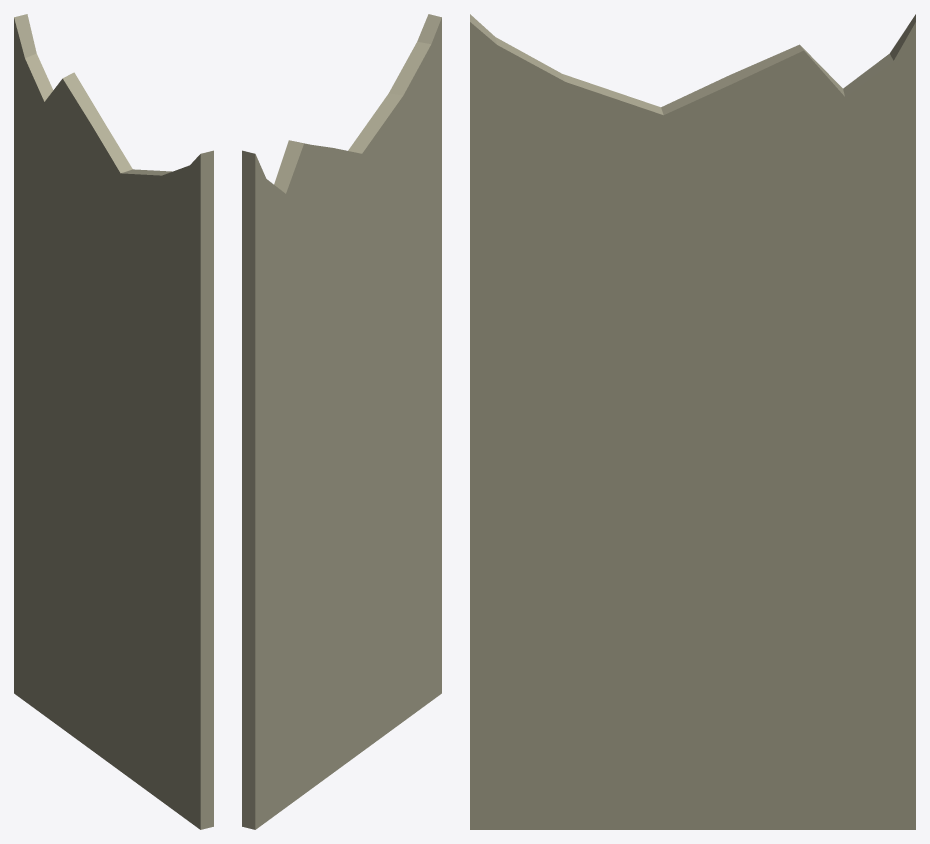
Rendered from HalfWallChipped.fbx.
3 views of the same model, side by side, from view 1: azimuth 30°, elevation 25°; view 2: azimuth 150°, elevation 25°; view 3: azimuth 270°, elevation 25° (orthographic). The views are drawn at different scales.
Parts seen in each view (by area): view 1: HalfWallChipped; view 2: HalfWallChipped; view 3: HalfWallChipped.
Part boxes in pixels (<box>): HalfWallChipped: <box>14,14,213,829</box>; HalfWallChipped: <box>242,14,441,829</box>; HalfWallChipped: <box>470,14,915,829</box>.
Bounding box in the file's own units: 0.25 × 12 × 6.
